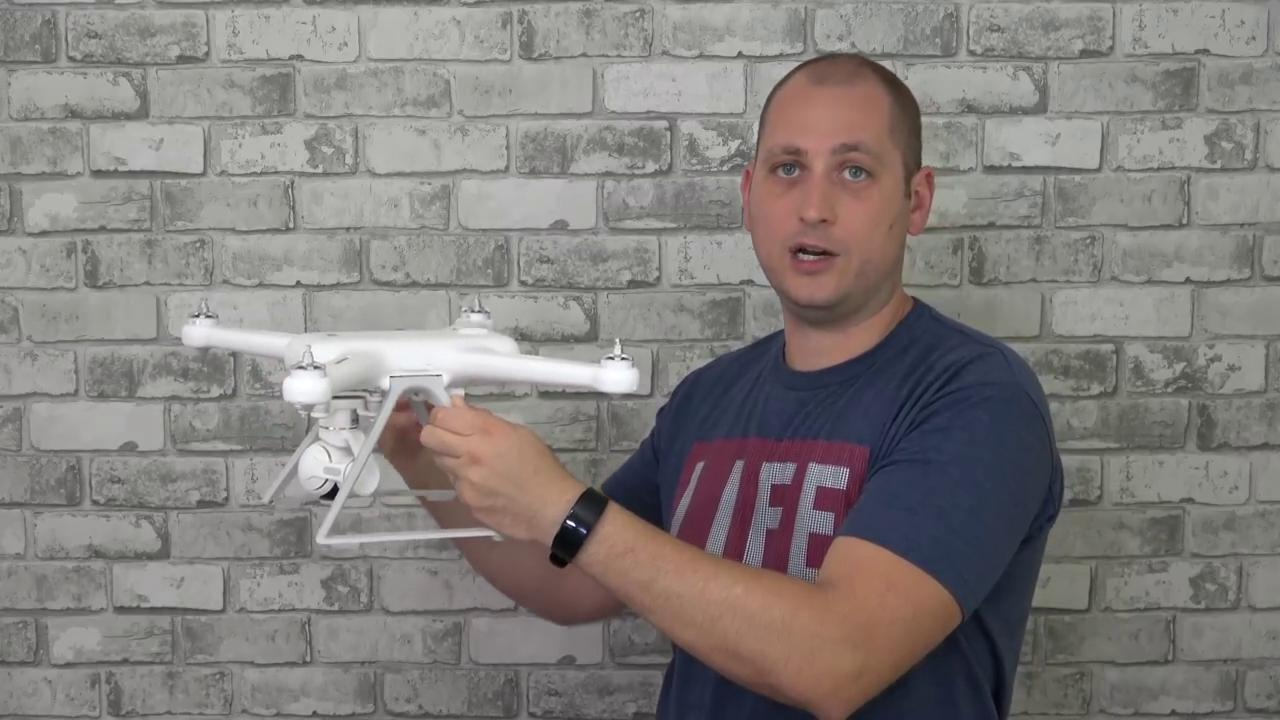drone: (172, 289, 648, 432)
